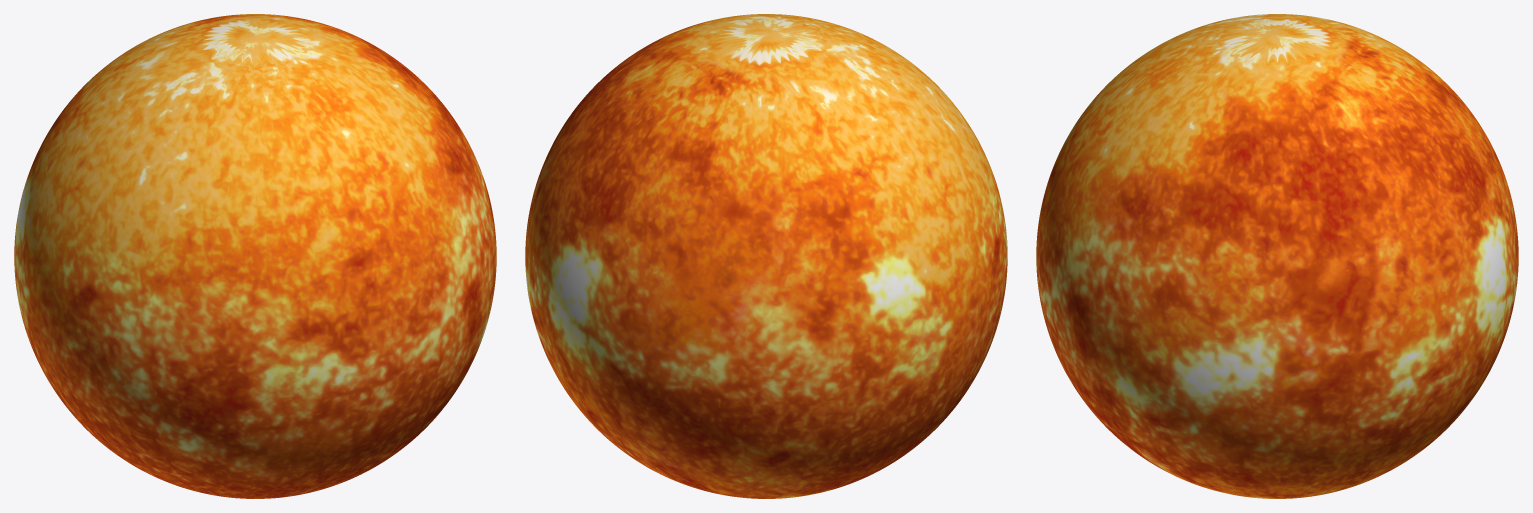
File: sun.glb
The picture shows the model from 3 angles, left to right: view 1: azimuth 30°, elevation 25°; view 2: azimuth 150°, elevation 25°; view 3: azimuth 270°, elevation 25°; orthographic projection.
Visible parts, largest first — view 1: Sphere_2; view 2: Sphere_2; view 3: Sphere_2.
Boxes of the visible parts, x1,y1,x2,y2 form: Sphere_2: [14, 14, 496, 498]; Sphere_2: [525, 14, 1007, 498]; Sphere_2: [1036, 14, 1518, 498].
Bounding box in the file's own units: 1.96 × 1.98 × 1.96.
1 material, 1 textured.
